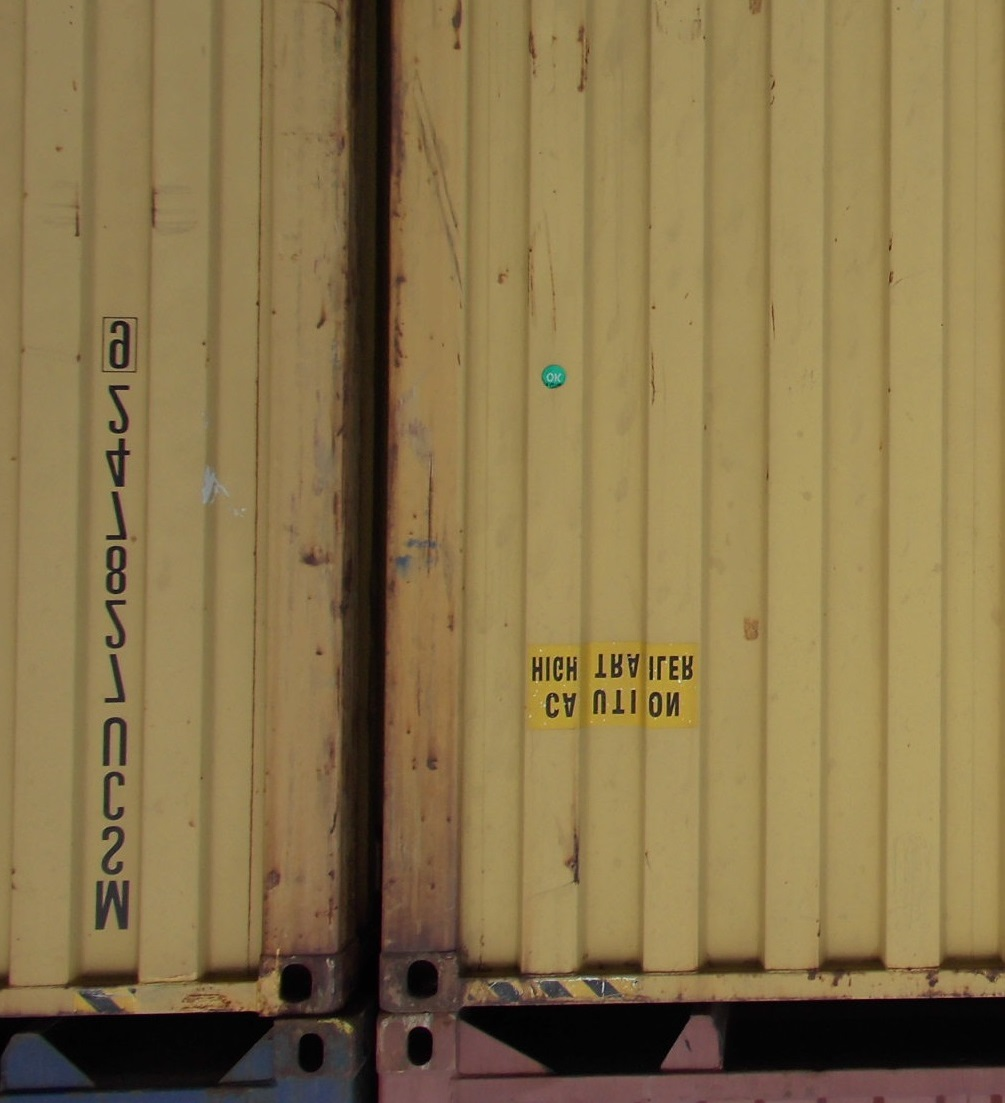container_no_door: (382, 1, 1005, 1013), (1, 1, 346, 1015)
